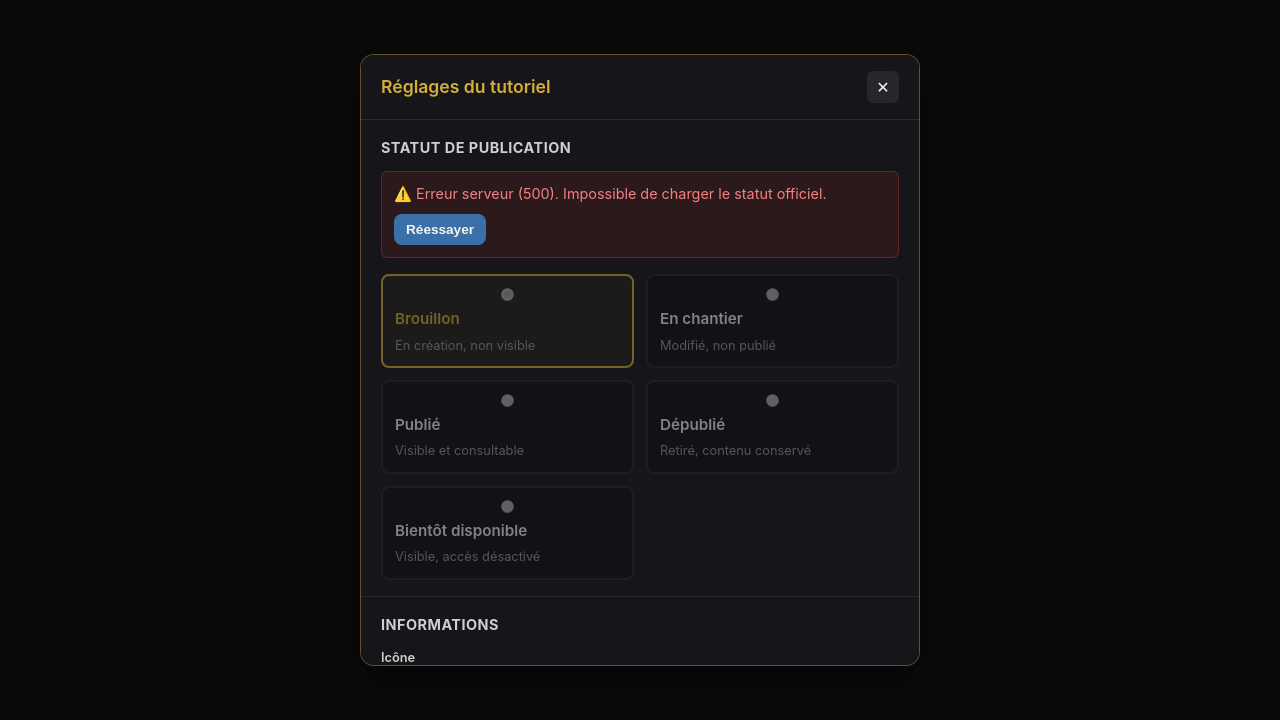
it: TutorialMetaPanel Component › Cas 3: Bouton Réessayer visible et fonctionnel après erreur 500
Expected: the text "Erreur serveur (500)" is shown, [416, 185, 826, 202]
Click the button "Réessayer" at (440, 230), box [394, 214, 486, 245]
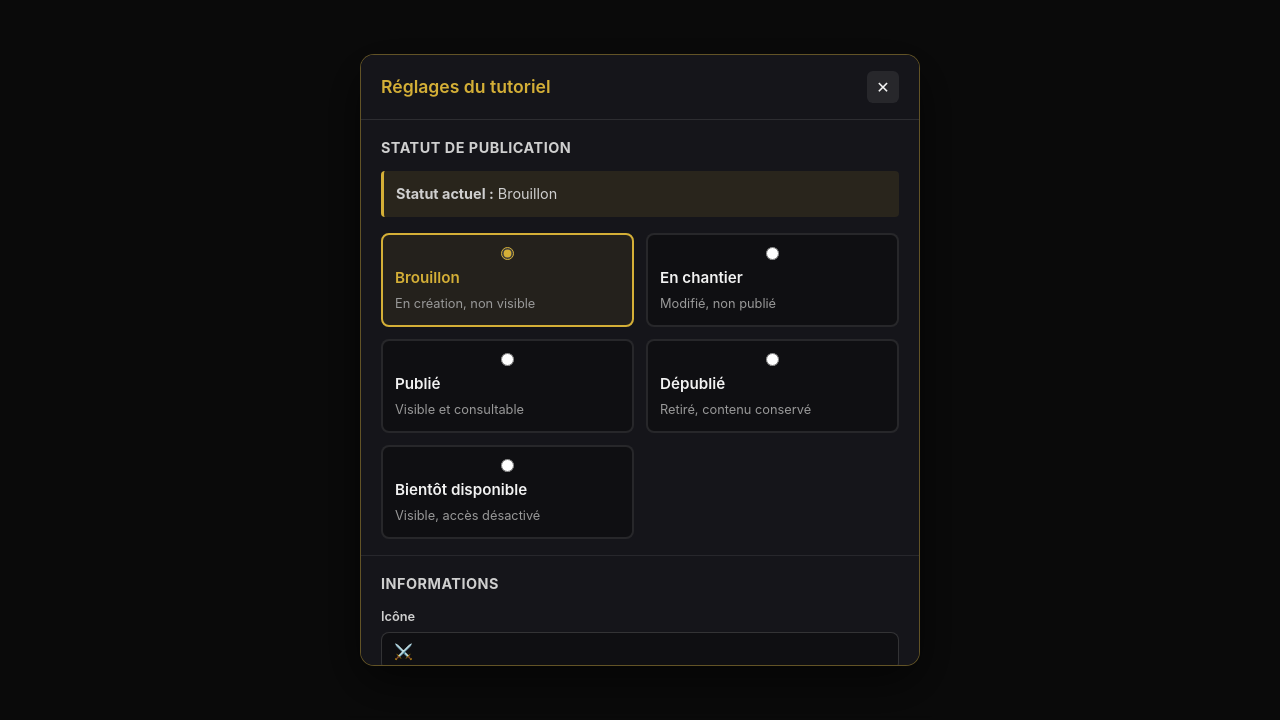
Now the text "Erreur serveur" is gone
